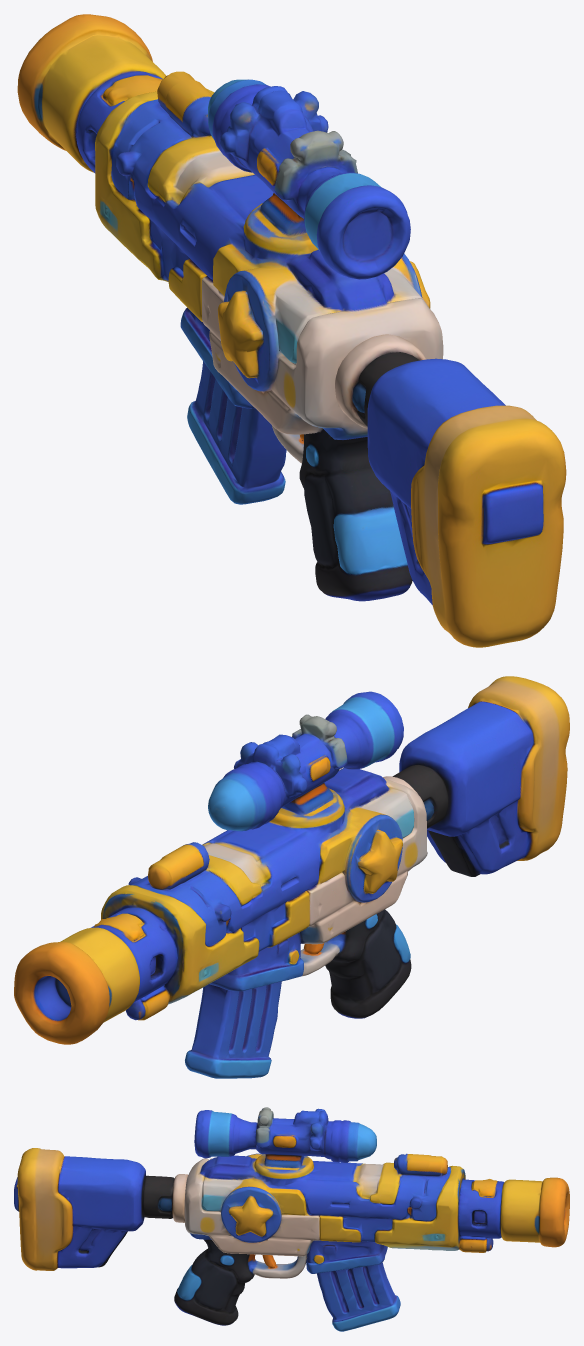
File: weapon_toy_rifle.glb
3 renders of one model, top to bottom at view 1: azimuth 30°, elevation 25°; view 2: azimuth 150°, elevation 25°; view 3: azimuth 270°, elevation 25°, orthographic. The views are drawn at different scales.
Parts seen in each view (by area): view 1: tripo_node_23938412-e278-41ff-99a4-57df1fa5c78d; view 2: tripo_node_23938412-e278-41ff-99a4-57df1fa5c78d; view 3: tripo_node_23938412-e278-41ff-99a4-57df1fa5c78d.
Part boxes in pixels (x1=…): tripo_node_23938412-e278-41ff-99a4-57df1fa5c78d: x1=17, y1=14, x2=566, y2=647; tripo_node_23938412-e278-41ff-99a4-57df1fa5c78d: x1=14, y1=676, x2=569, y2=1078; tripo_node_23938412-e278-41ff-99a4-57df1fa5c78d: x1=14, y1=1107, x2=569, y2=1331.
Bounding box in the file's own units: 0.2313 × 0.4261 × 1.
Materials: 1 (1 with a texture image).
